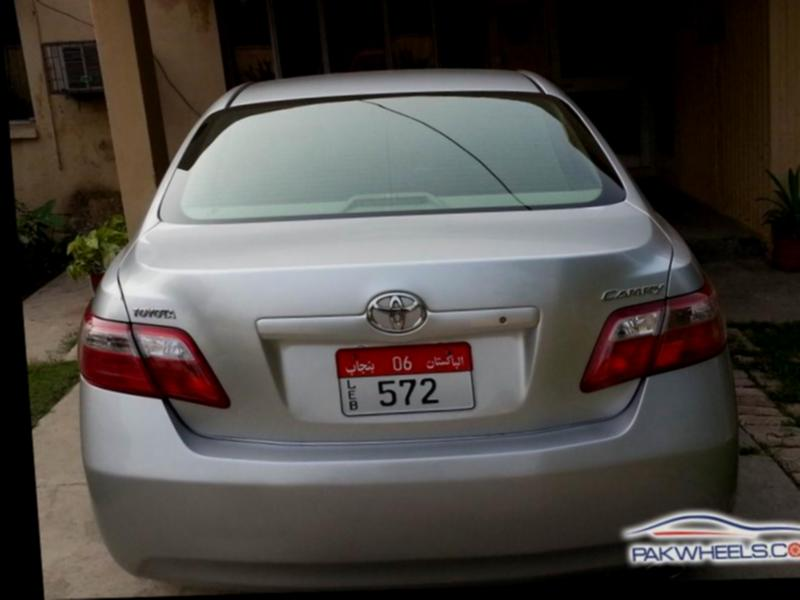License_Plate: (333, 338, 481, 427)
